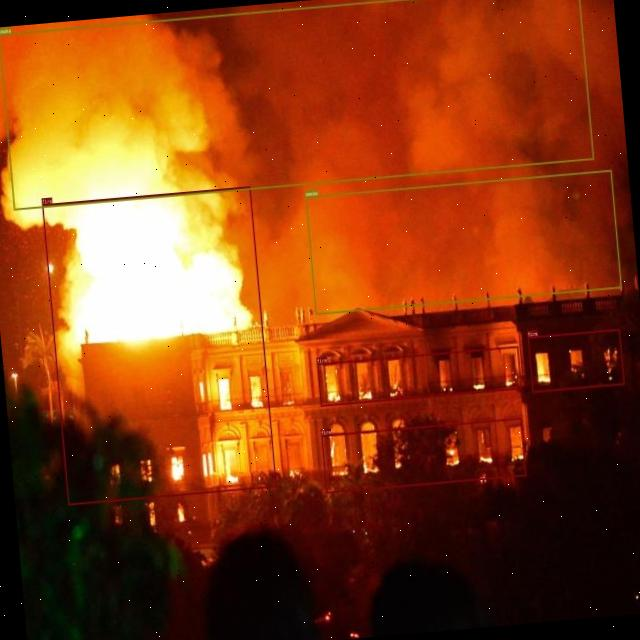fire: (42, 186, 276, 504), (321, 417, 525, 493), (317, 346, 521, 406), (527, 329, 624, 393)
smoke: (0, 0, 594, 209), (304, 170, 621, 314)
